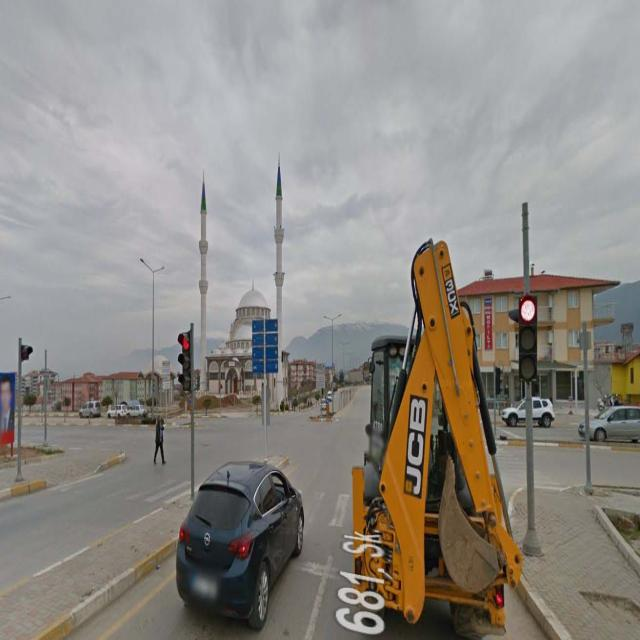kirmizi: (519, 295, 536, 381), (180, 333, 191, 389)
